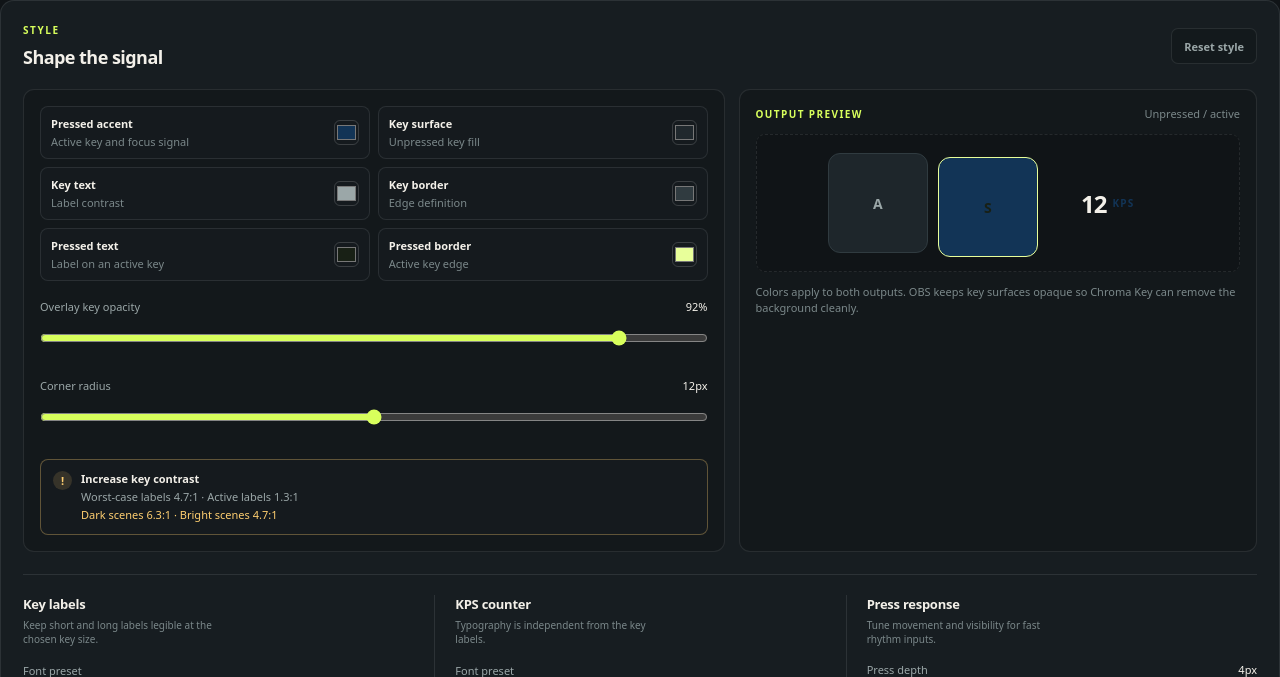
Test: global-style reset requires confirmation and restores focus after cancel or completion
The width and height of the screenshot is (1280, 677).
Check: the colour field named "Pressed accent color" holds "#123456", box [334,120,359,145]
Click the button "Reset style": click(1214, 46) [1171,28,1257,64]
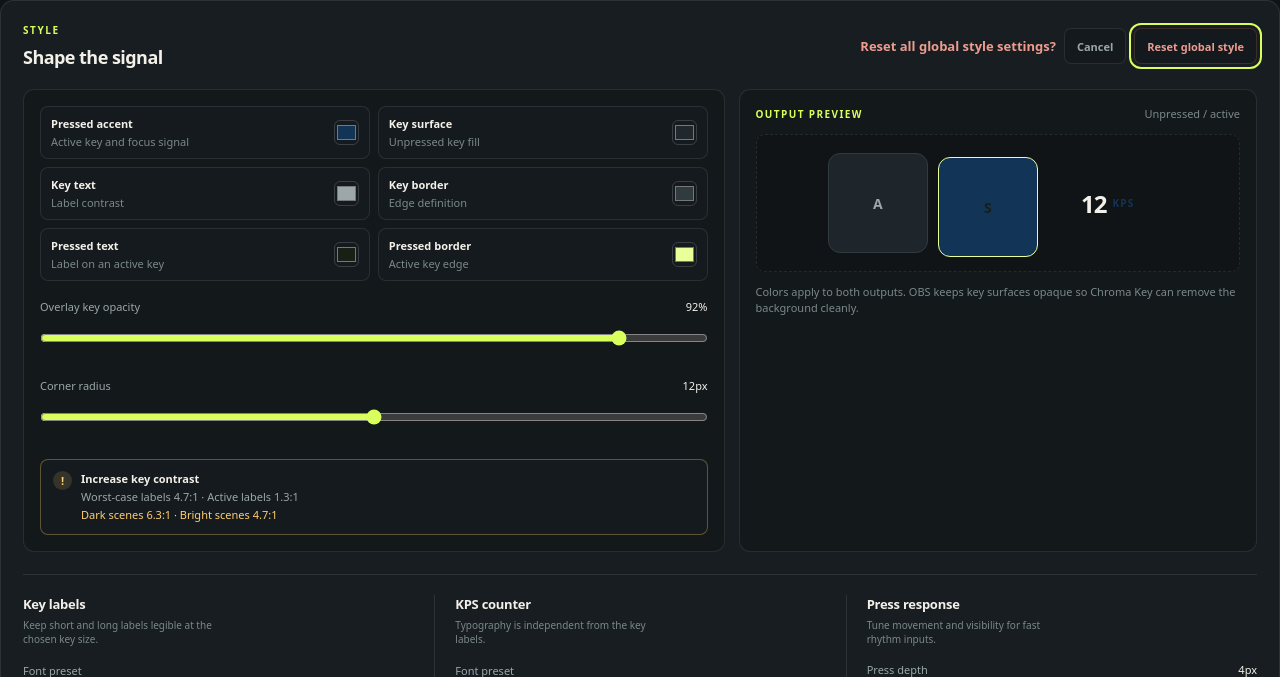
Click the button "Cancel": click(1095, 46) [1064,28,1126,64]
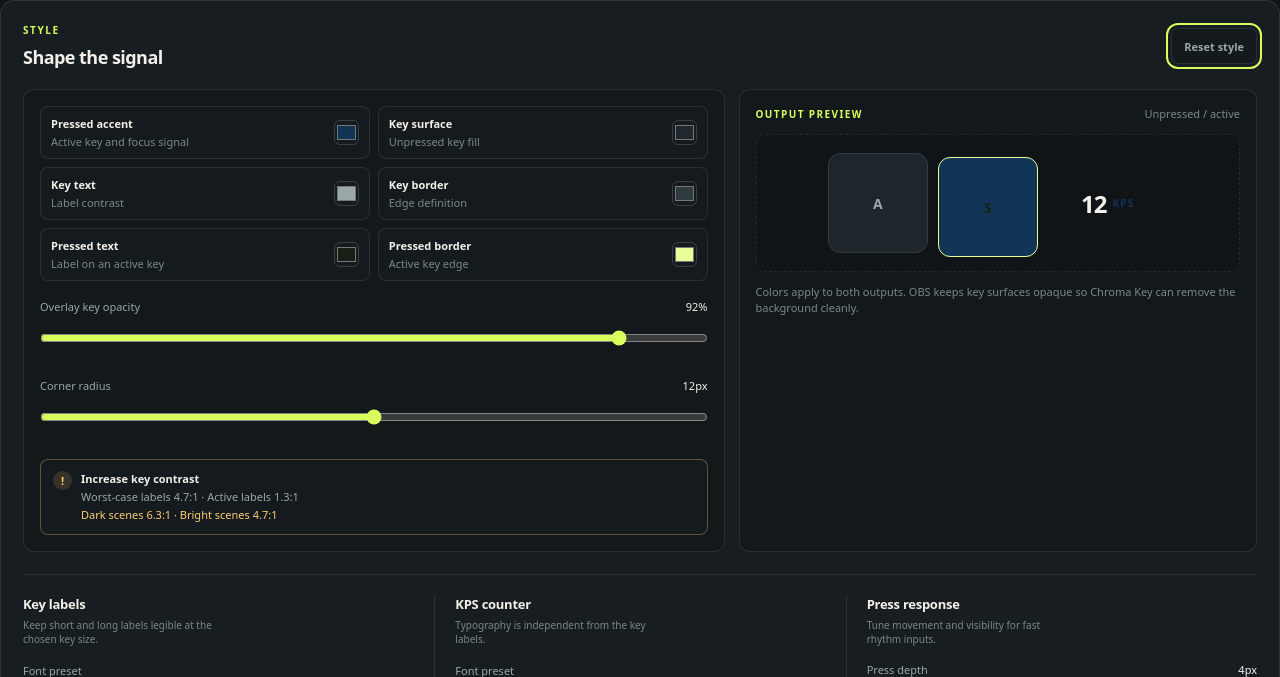
Check: the colour field named "Pressed accent color" holds "#123456", box [334,120,359,145]
Click the button "Reset style": click(1214, 46) [1171,28,1257,64]
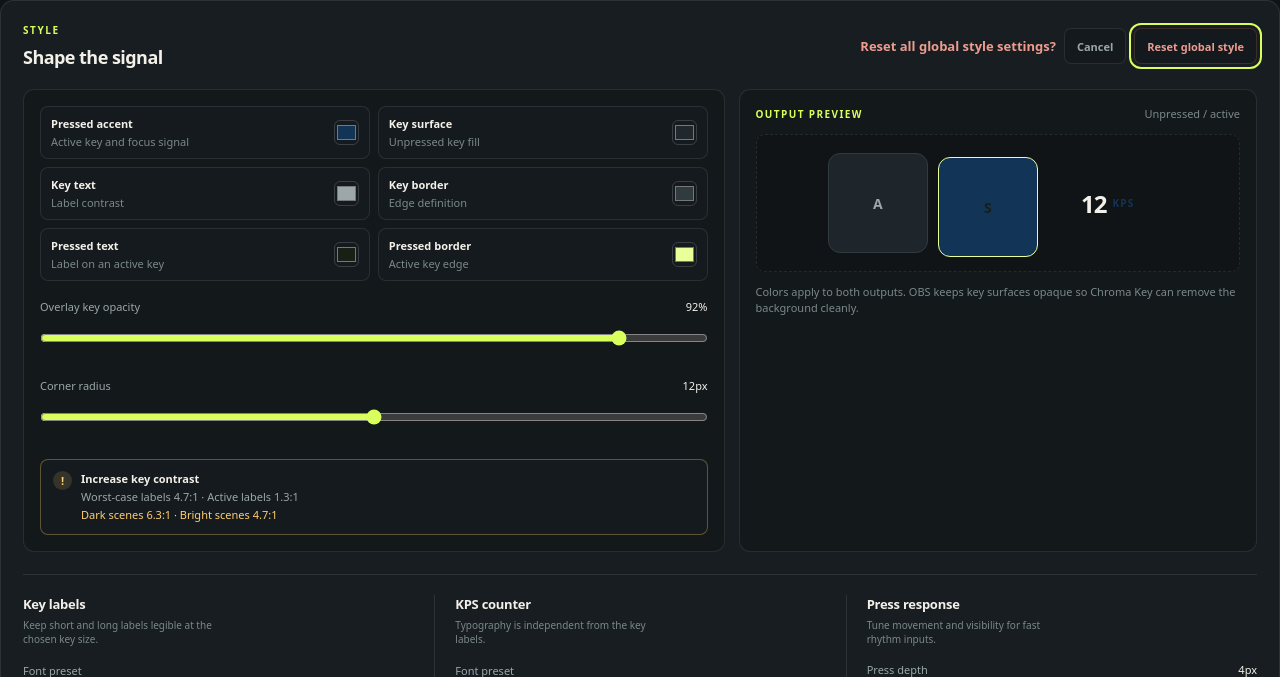
Click the button "Reset global style": click(1196, 46) [1134,28,1257,64]
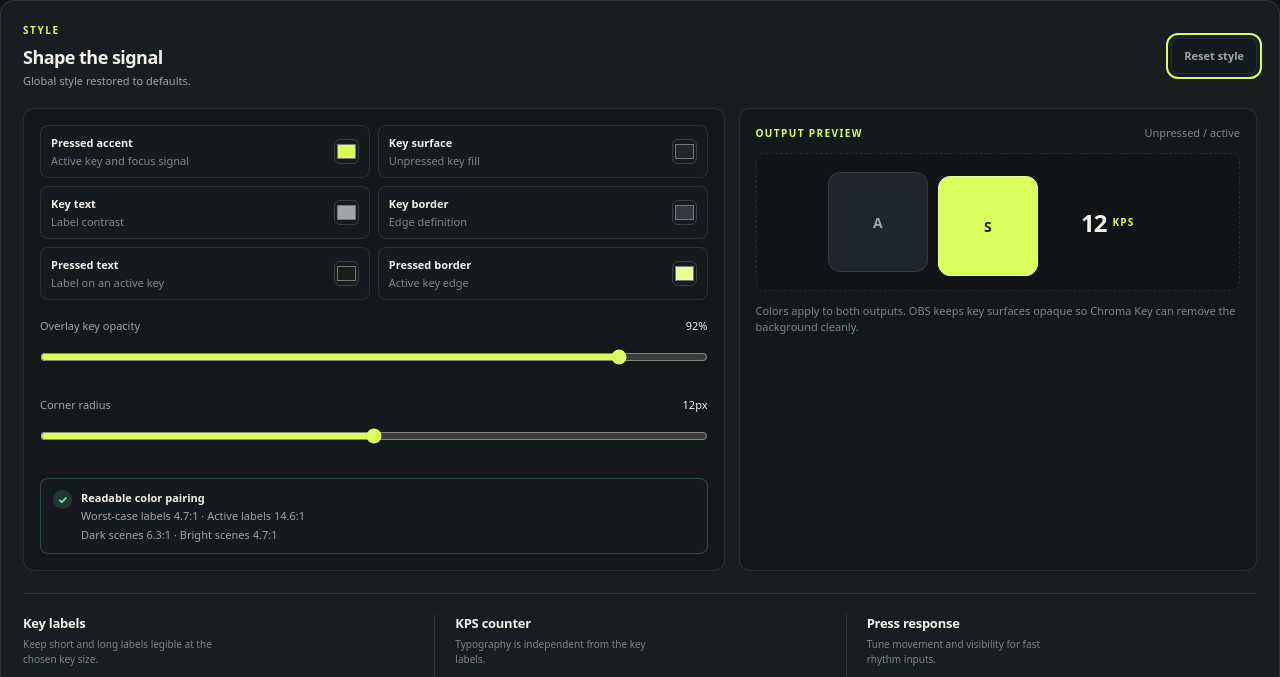
Check: the colour field named "Pressed accent color" holds "#d8ff5c"
In the colour field named "Pressed accent color": (346, 152) [334,139,359,164], type "#112233"
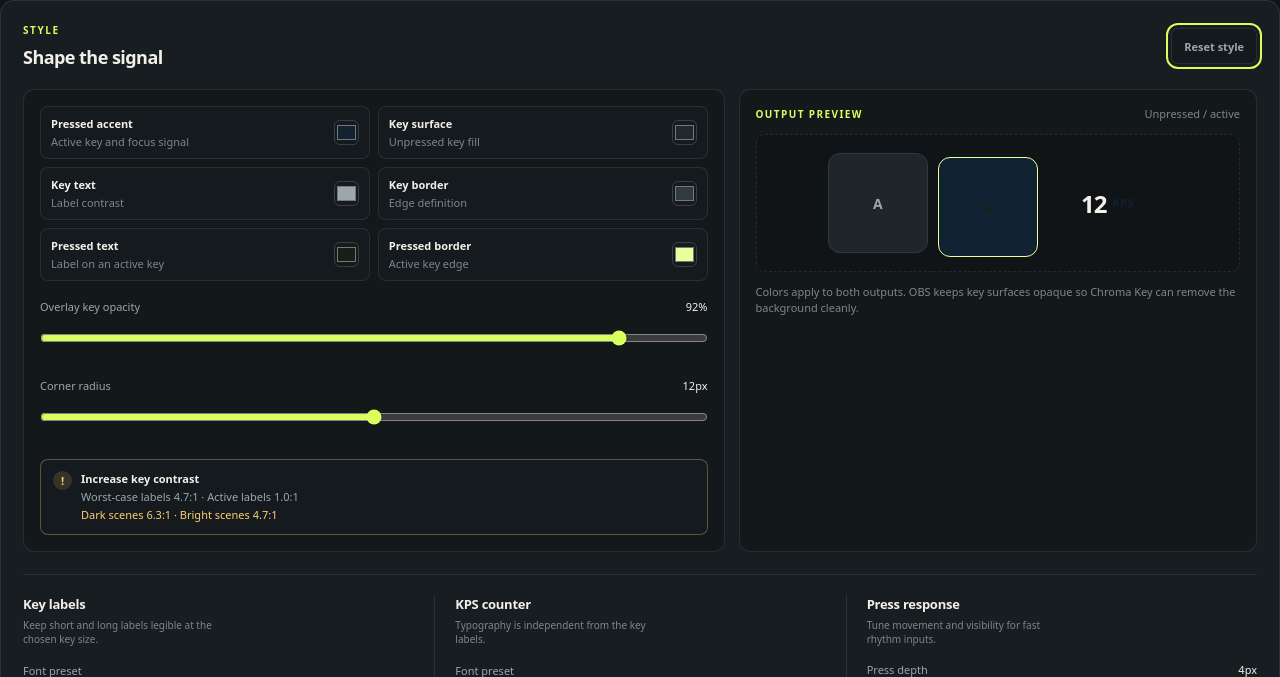
Check: the text "Global style restored to defaults." is gone
